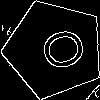O: (29, 24, 89, 78)
